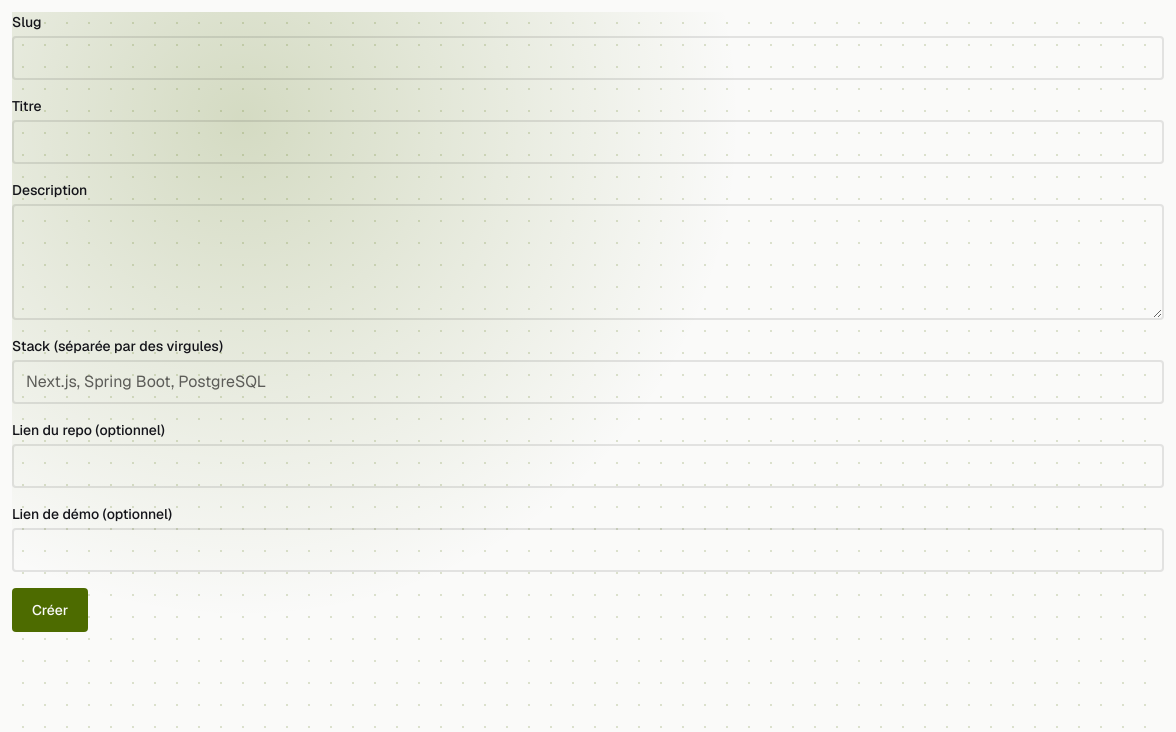
Test: ProjectForm › affiche un message d'erreur si l'enregistrement échoue
Type "portfolio" into the field labelled "Slug".
click(588, 58); type("portfolio")  # box x1=12 y1=36 x2=1164 y2=80
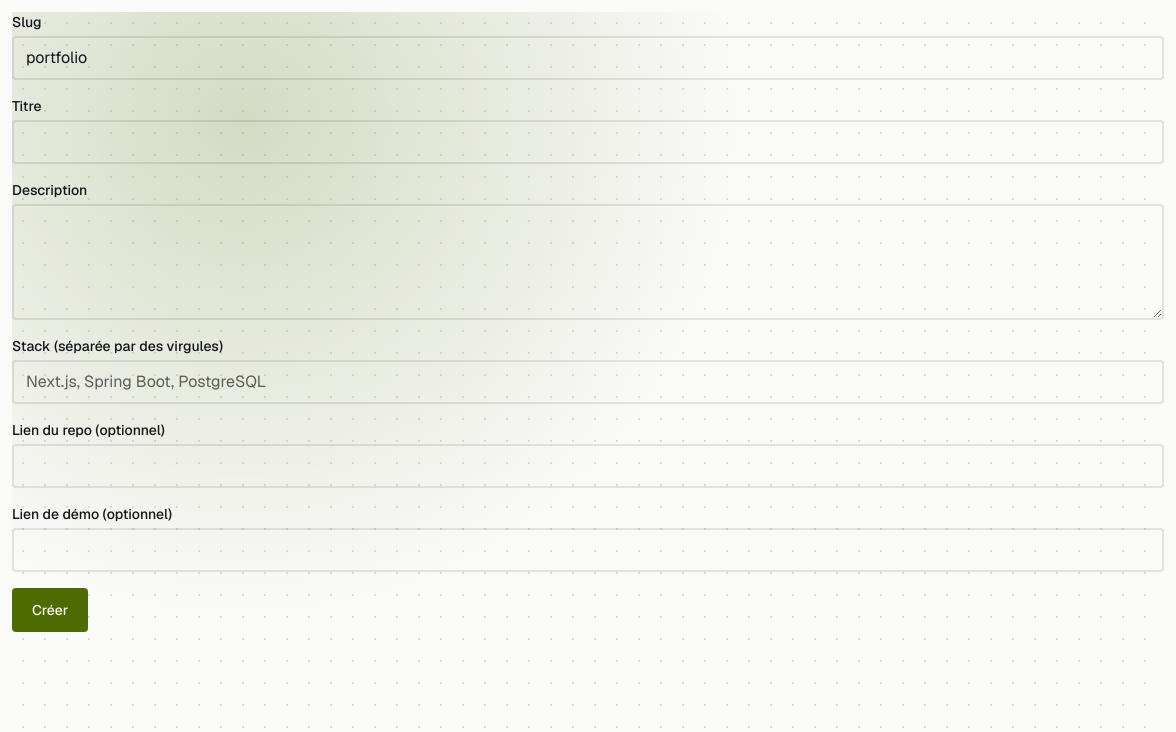
Type "Portfolio" into the field labelled "Titre".
click(588, 142); type("Portfolio")  # box x1=12 y1=120 x2=1164 y2=164
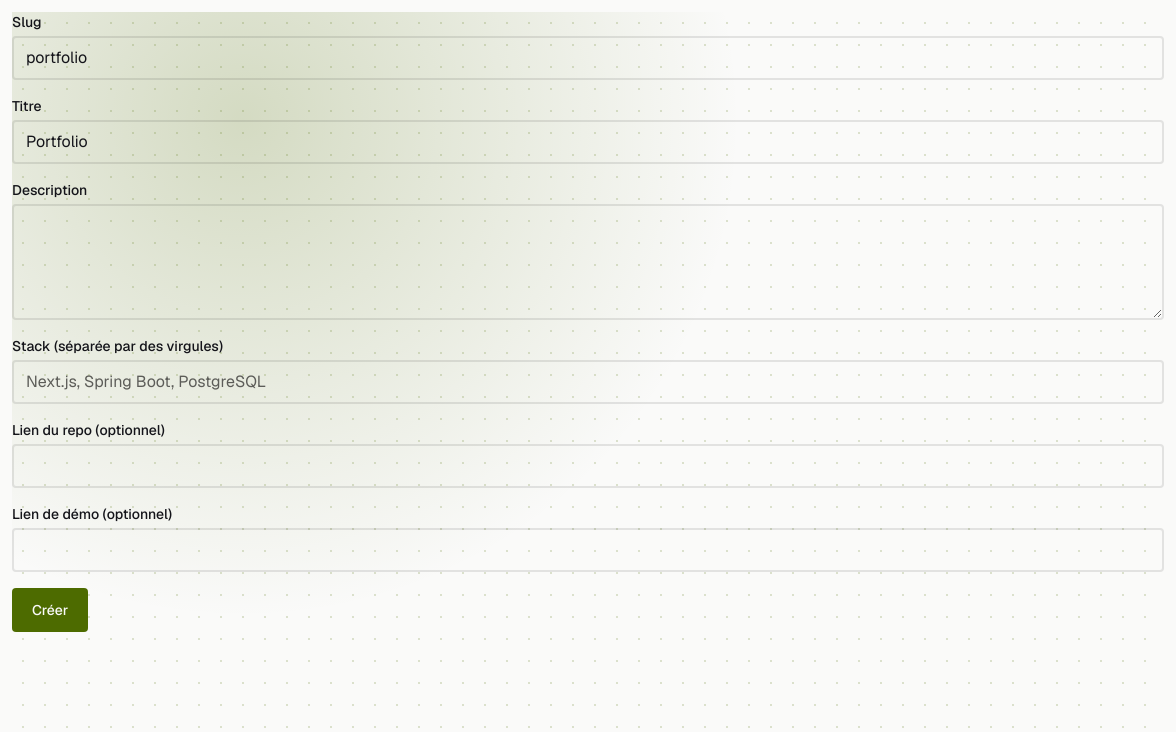
Type "desc" into the text box labelled "Description".
click(588, 262); type("desc")  # box x1=12 y1=204 x2=1164 y2=320
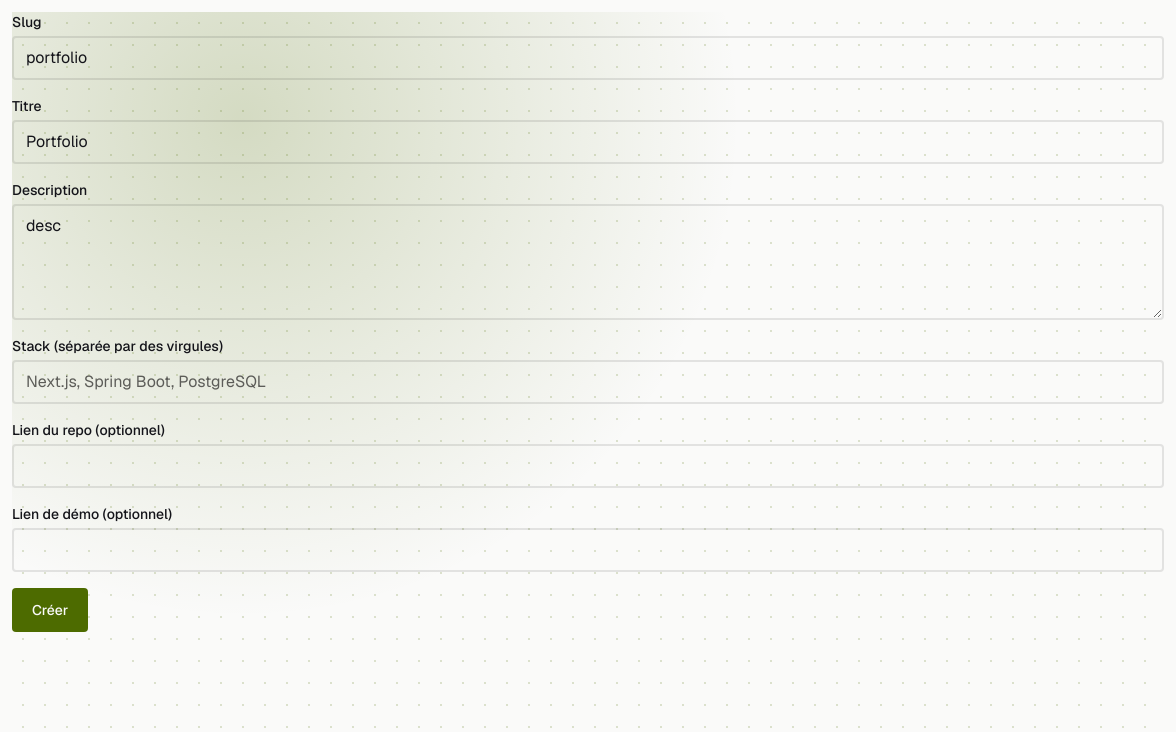
Type "Next.js" into the field labelled "Stack (séparée par des virgules)".
click(588, 382); type("Next.js")  # box x1=12 y1=360 x2=1164 y2=404
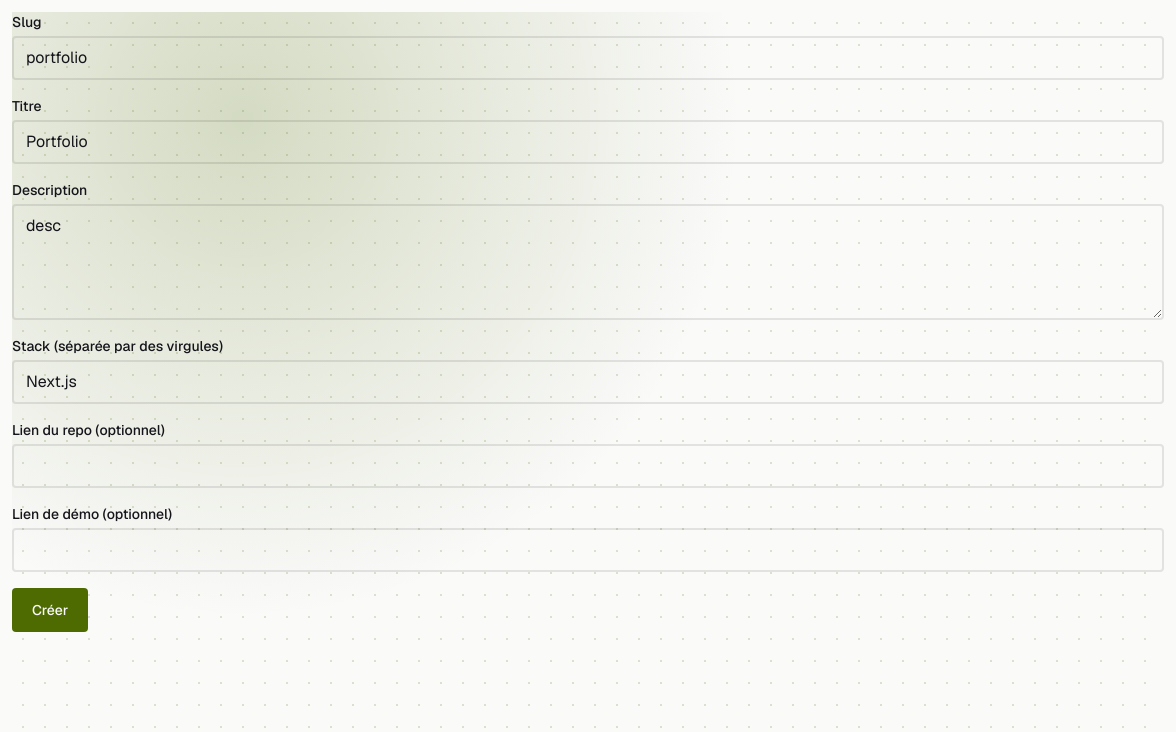
Click the button "Créer".
click(50, 610)  # box x1=12 y1=588 x2=88 y2=632
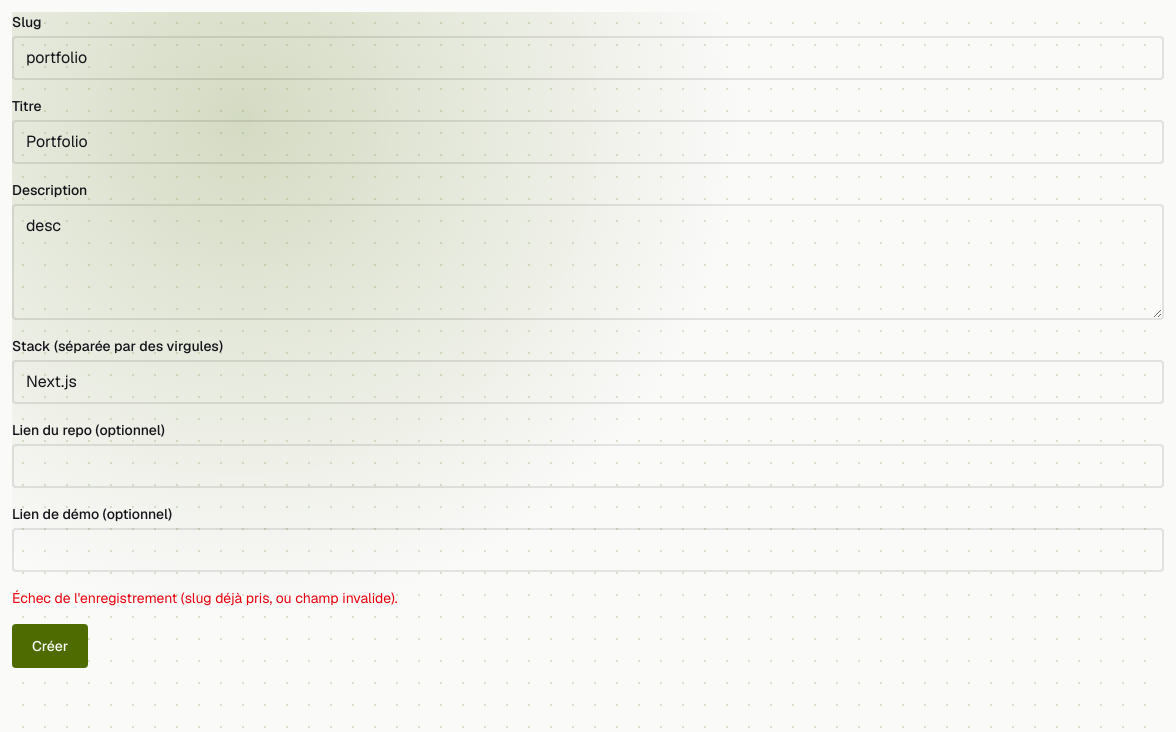
Now the text "Échec de l'enregistrement (slug déjà pris, ou champ invalide)." is shown, box x1=12 y1=589 x2=398 y2=607
